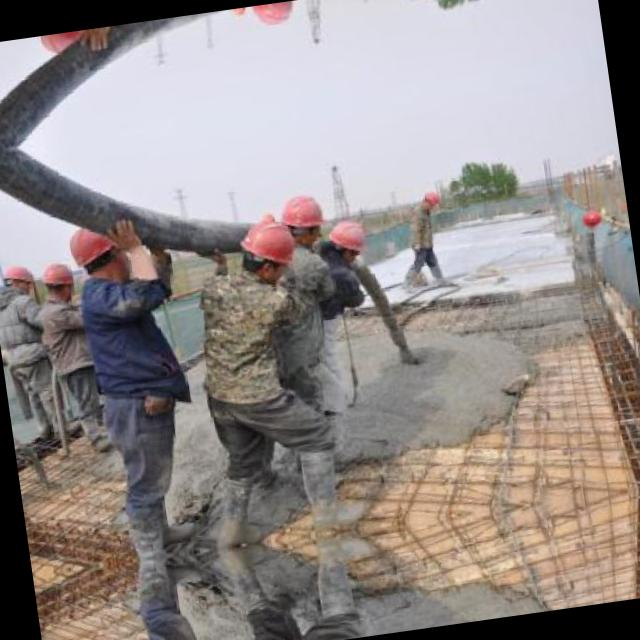helmet: (233, 212, 297, 288), (271, 185, 331, 252), (70, 223, 126, 290), (324, 215, 371, 262), (245, 0, 302, 33), (38, 258, 78, 304), (0, 259, 37, 301), (42, 29, 93, 53), (416, 186, 441, 212)
